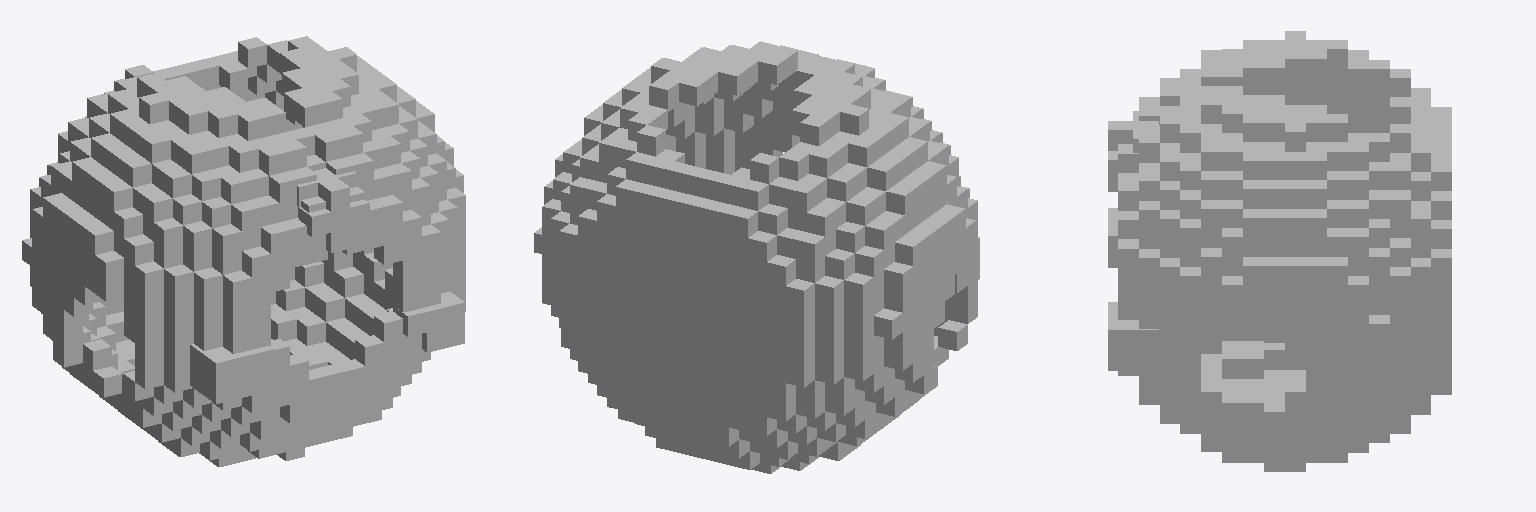
The model's file is testeee.obj.
3 renders of one model, left to right at view 1: azimuth 30°, elevation 25°; view 2: azimuth 150°, elevation 25°; view 3: azimuth 270°, elevation 25°, orthographic.
Parts seen in each view (by area): view 1: _Combined Mesh [ExportedObjects_Body]; view 2: _Combined Mesh [ExportedObjects_Body]; view 3: _Combined Mesh [ExportedObjects_Body].
Part boxes in pixels (left/top/right/bottom): _Combined Mesh [ExportedObjects_Body]: left=22, top=36, right=465, bottom=466; _Combined Mesh [ExportedObjects_Body]: left=534, top=41, right=979, bottom=473; _Combined Mesh [ExportedObjects_Body]: left=1108, top=31, right=1451, bottom=471.
Bounding box in the file's own units: 0.9642 × 0.8962 × 0.8028.